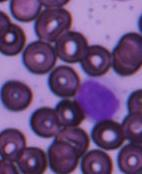L: (74, 77, 123, 122)
